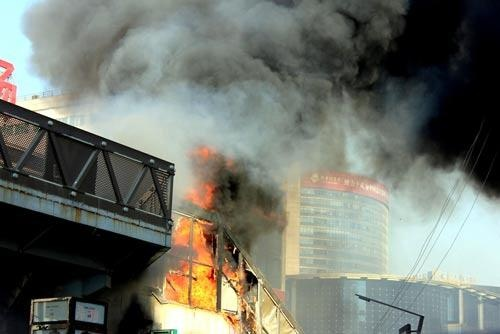fire: (164, 214, 258, 334), (183, 181, 216, 208)
